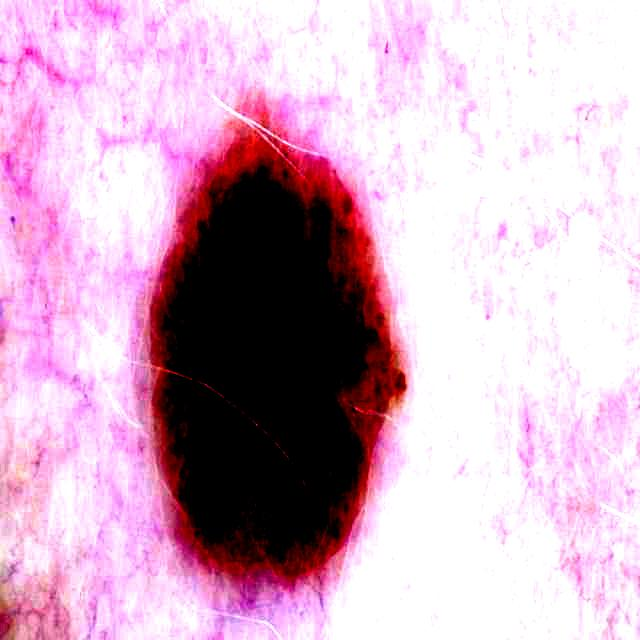NV: (154, 132, 406, 572)
